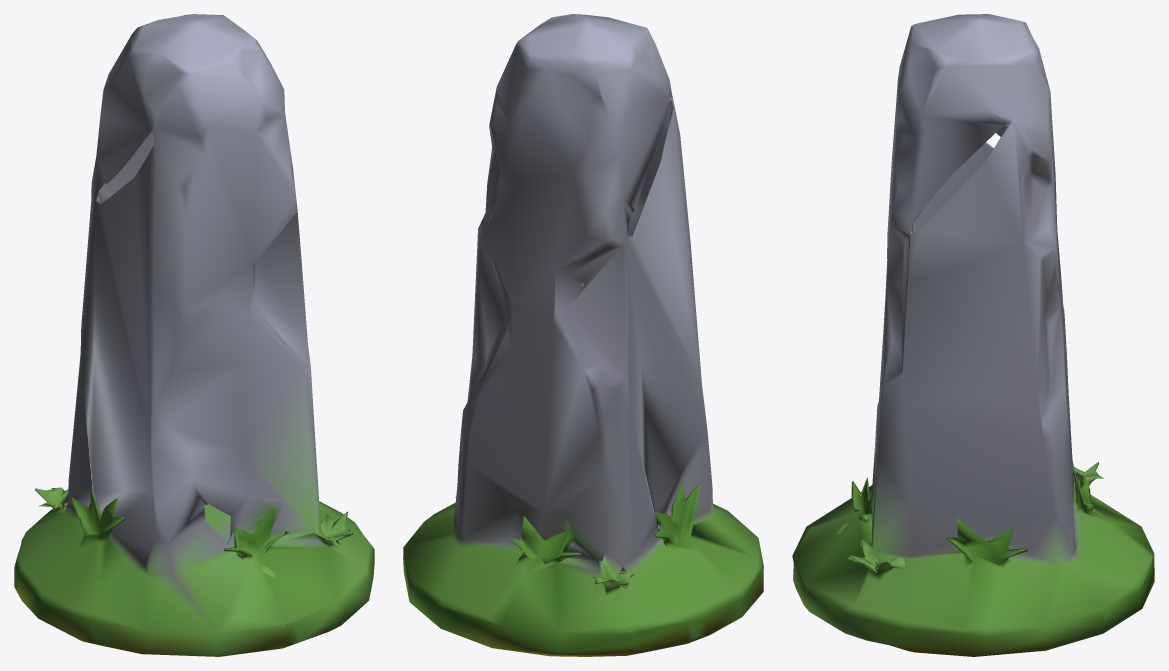
Rendered from gen3d-standing-stone-lod1.glb.
3 views of the same model, side by side, from view 1: azimuth 30°, elevation 25°; view 2: azimuth 150°, elevation 25°; view 3: azimuth 270°, elevation 25° (orthographic).
Visible parts, largest first — view 1: part_0; view 2: part_0; view 3: part_0.
Part boxes in pixels (<box>): part_0: <box>14,14,374,656</box>; part_0: <box>403,14,763,656</box>; part_0: <box>792,14,1154,656</box>.
Size of the model in its own units: 0.5858 by 0.9966 by 0.5839.
